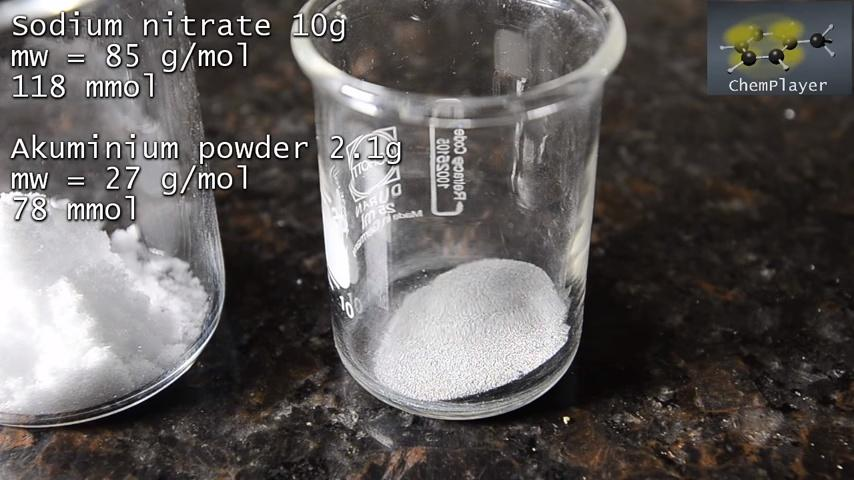Beaker: (296, 2, 651, 431)
